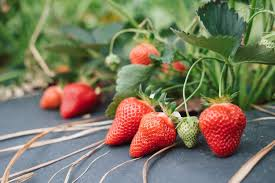ripe: (102, 91, 154, 145), (199, 99, 245, 156), (126, 111, 175, 162), (59, 77, 102, 119), (127, 39, 161, 71), (177, 115, 203, 148), (36, 82, 65, 111)
